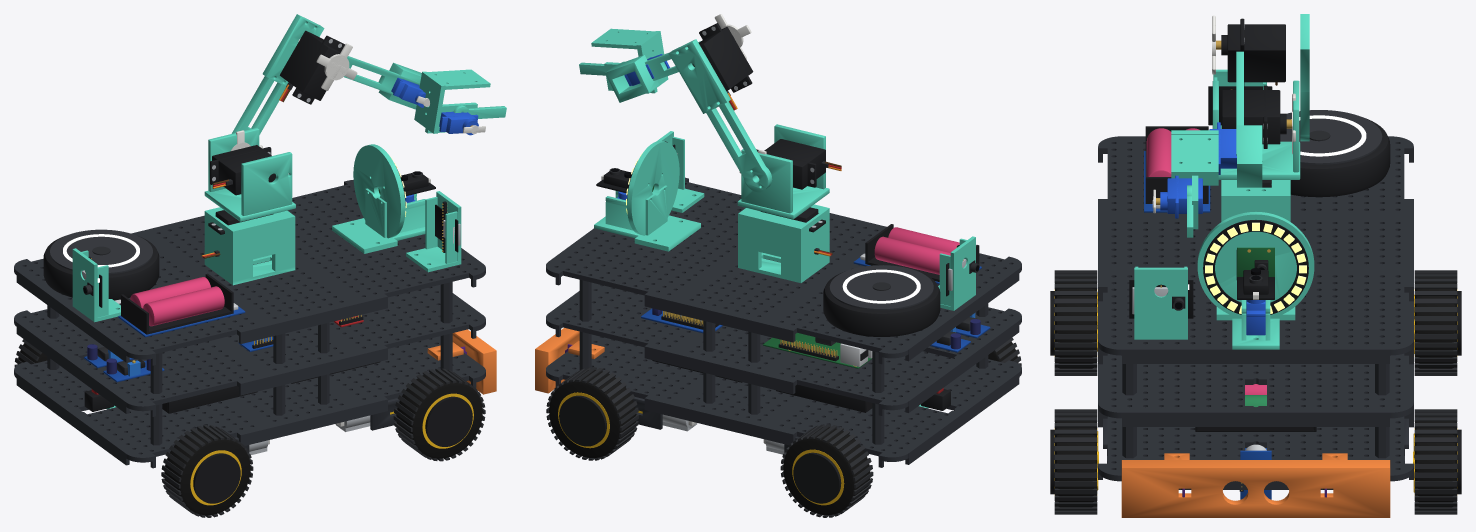
Rendered from bicho_V3.glb.
3 renders of one model, left to right at view 1: azimuth 30°, elevation 25°; view 2: azimuth 150°, elevation 25°; view 3: azimuth 270°, elevation 25°, orthographic. The views are drawn at different scales.
Parts seen in each view (by area): view 1: P20 cubierta.002, P20 superior.002, P20 inferior.002, Rueda 65 mm.008, Rueda 65 mm.010, Parlante omnidireccional.002, P07 Torreta.002, P18 Cara frontal, UPS LX-2BUPS.002, P08 Horquilla.002, Servo MG995.008, P09 Eslabón 1.002 (+13 smaller); view 2: P20 cubierta.002, P20 inferior.002, P20 superior.002, Parlante omnidireccional.002, Rueda 65 mm.011, Rueda 65 mm.009, P07 Torreta.002, P18 Cara frontal, P09 Eslabón 1.002, P08 Horquilla.002, UPS LX-2BUPS.002, Servo MG995.008 (+11 smaller); view 3: P20 cubierta.002, P20 superior.002, P05 Parachoques.002, P20 inferior.002, Parlante omnidireccional.002, P18 Cara frontal, Rueda 65 mm.010, Rueda 65 mm.011, Rueda 65 mm.008, Rueda 65 mm.009, Servo MG995.008, P04 Soporte ESP32-CAM.005 (+18 smaller).
Part boxes in pixels (bbox=[...]): P20 cubierta.002: bbox=[14, 180, 485, 365]; P20 superior.002: bbox=[14, 284, 485, 416]; P20 inferior.002: bbox=[14, 336, 485, 468]; Rueda 65 mm.008: bbox=[161, 425, 253, 517]; Rueda 65 mm.010: bbox=[393, 368, 485, 461]; Parlante omnidireccional.002: bbox=[43, 229, 159, 300]; P07 Torreta.002: bbox=[204, 207, 295, 285]; P18 Cara frontal: bbox=[332, 144, 405, 253]; UPS LX-2BUPS.002: bbox=[118, 273, 245, 337]; P08 Horquilla.002: bbox=[204, 128, 295, 221]; Servo MG995.008: bbox=[279, 30, 357, 104]; P09 Eslabón 1.002: bbox=[231, 14, 324, 134]; P20 cubierta.002: bbox=[546, 177, 1021, 364]; P20 inferior.002: bbox=[546, 334, 1021, 467]; P20 superior.002: bbox=[546, 282, 1021, 415]; Parlante omnidireccional.002: bbox=[823, 265, 940, 336]; Rueda 65 mm.011: bbox=[546, 367, 638, 460]; Rueda 65 mm.009: bbox=[780, 424, 873, 517]; P07 Torreta.002: bbox=[738, 204, 829, 282]; P18 Cara frontal: bbox=[627, 141, 700, 251]; P09 Eslabón 1.002: bbox=[668, 39, 772, 192]; P08 Horquilla.002: bbox=[737, 124, 829, 219]; UPS LX-2BUPS.002: bbox=[853, 224, 981, 284]; Servo MG995.008: bbox=[692, 14, 753, 110]; P20 cubierta.002: bbox=[1098, 136, 1413, 363]; P20 superior.002: bbox=[1098, 292, 1413, 426]; P05 Parachoques.002: bbox=[1121, 453, 1390, 517]; P20 inferior.002: bbox=[1098, 355, 1413, 489]; Parlante omnidireccional.002: bbox=[1280, 110, 1390, 197]; P18 Cara frontal: bbox=[1197, 212, 1314, 320]; Rueda 65 mm.010: bbox=[1050, 409, 1098, 514]; Rueda 65 mm.011: bbox=[1413, 409, 1461, 514]; Rueda 65 mm.008: bbox=[1050, 270, 1097, 375]; Rueda 65 mm.009: bbox=[1414, 270, 1461, 375]; Servo MG995.008: bbox=[1212, 15, 1285, 86]; P04 Soporte ESP32-CAM.005: bbox=[1134, 266, 1187, 339].
Size of the model in its own units: 0.3649 by 0.3268 by 0.2604.
